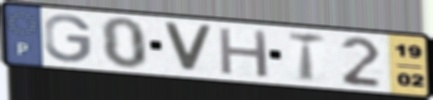0: (95, 15, 152, 71)
2: (337, 35, 387, 90)
G: (43, 13, 94, 64)
H: (216, 25, 271, 79)
T: (286, 30, 328, 84)
V: (160, 20, 217, 75)
